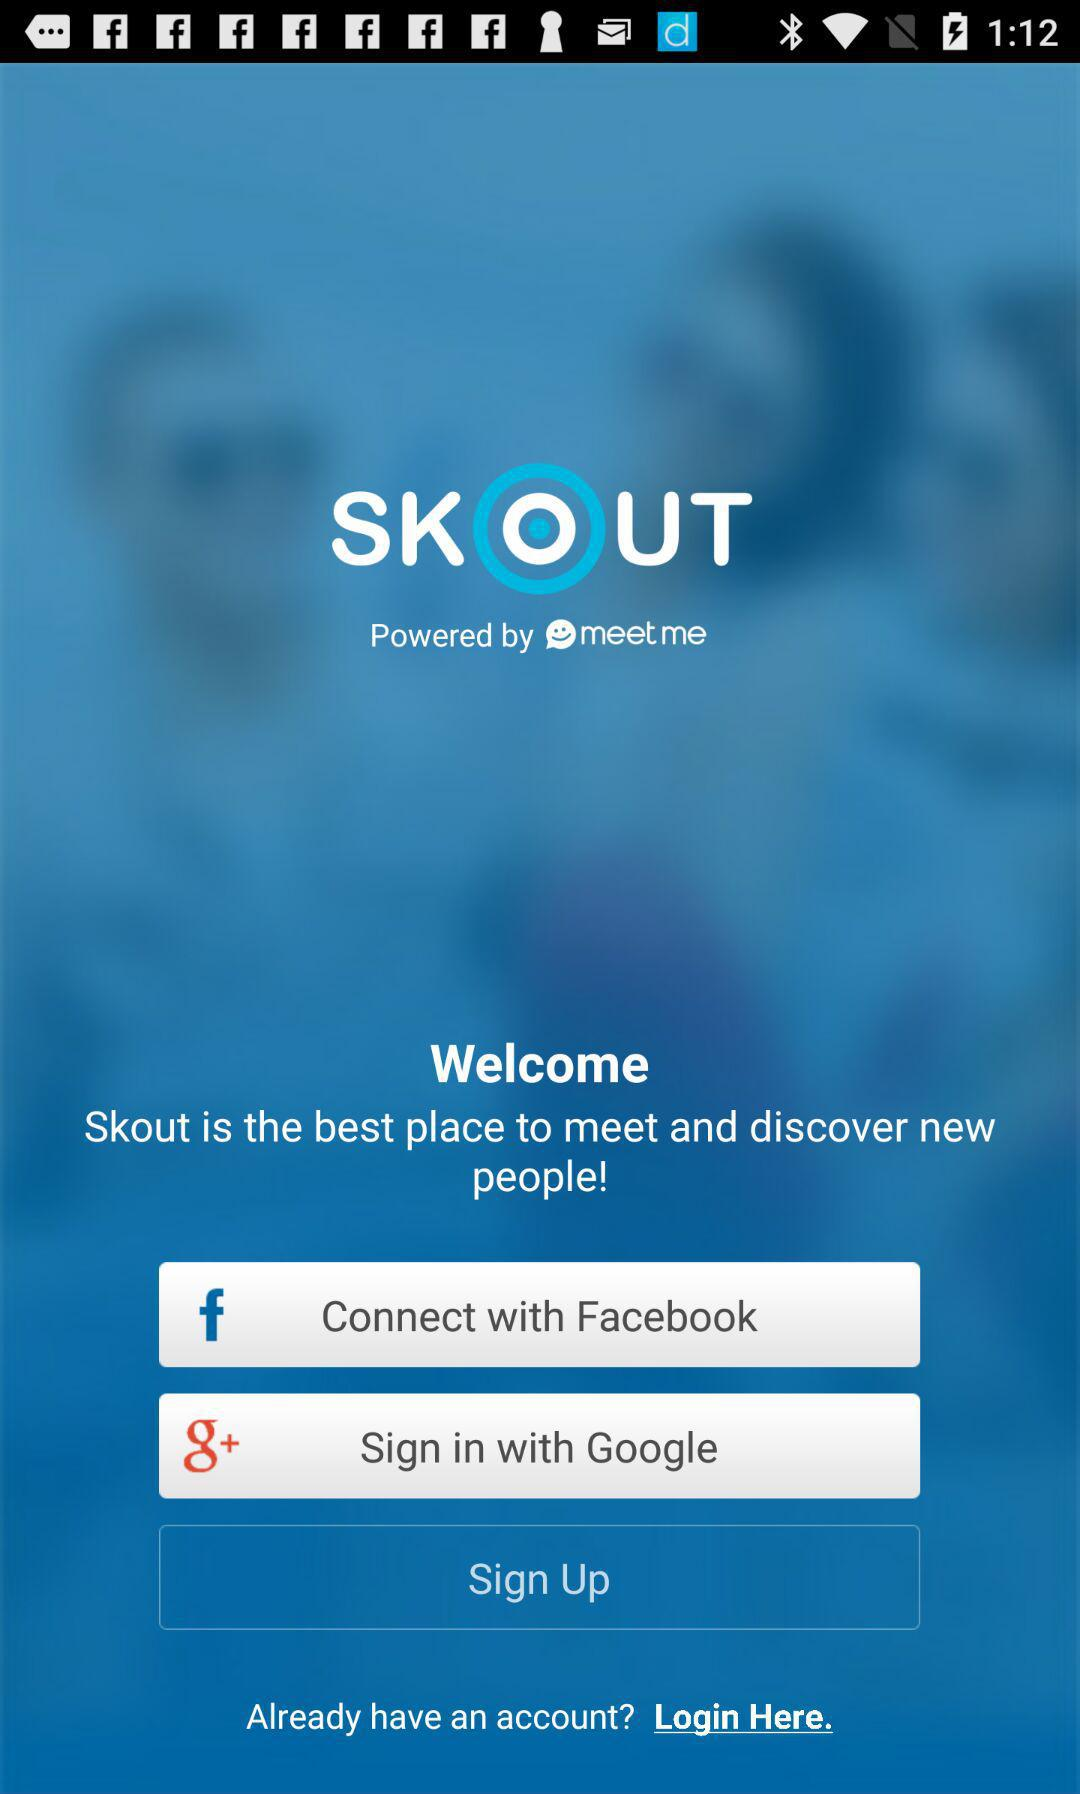Image: (331, 463, 756, 657)
Text: (85, 1108, 995, 1203), (246, 1700, 833, 1738), (430, 1042, 650, 1085)
TextButton: (159, 1393, 921, 1501), (159, 1524, 921, 1631), (159, 1262, 920, 1369)
UpperTaskBar: (1, 1, 1080, 64)
